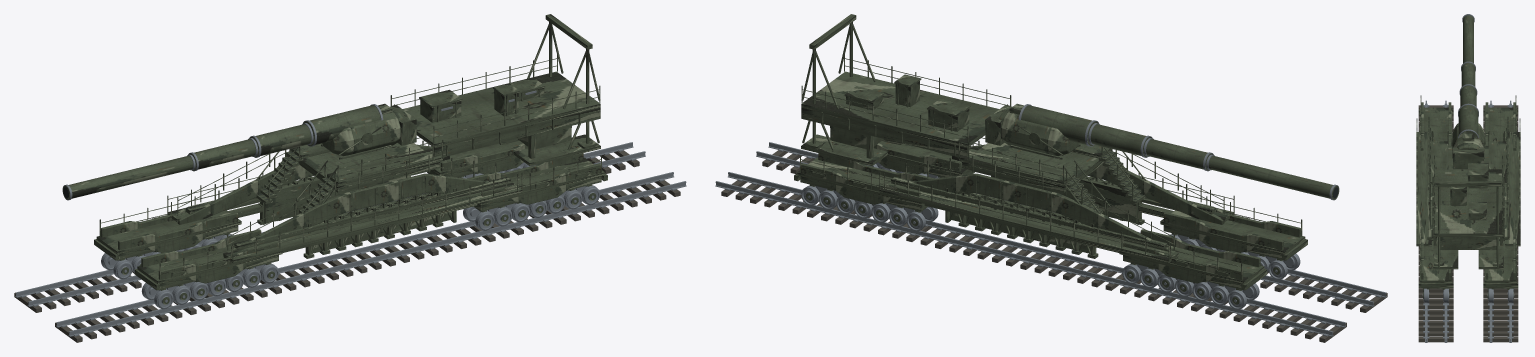
The model's file is runtime-camo-digital.glb.
The picture shows the model from 3 angles, left to right: view 1: azimuth 30°, elevation 25°; view 2: azimuth 150°, elevation 25°; view 3: azimuth 270°, elevation 25°; orthographic projection. The views are drawn at different scales.
Visible parts, largest first — view 1: main-outer-frame-paint-batch, walkways-deck-batch, display-rails-steel-batch, closed-cylinder-shell-paint-batch, display-rails-sleeper-batch, rear-display-deck-deck-batch, walkways-trim-batch, rear-display-deck-trim-batch, rear-display-deck-paint-batch, main-outer-frame-trim-batch, surface-decoration-trim-batch, surface-decoration-paint-batch (+1 smaller); view 2: main-outer-frame-paint-batch, walkways-deck-batch, display-rails-steel-batch, closed-cylinder-shell-paint-batch, display-rails-sleeper-batch, rear-display-deck-deck-batch, walkways-trim-batch, rear-display-deck-trim-batch, rear-display-deck-paint-batch, main-outer-frame-trim-batch, surface-decoration-trim-batch, surface-decoration-paint-batch (+1 smaller); view 3: walkways-deck-batch, rear-display-deck-deck-batch, display-rails-sleeper-batch, closed-cylinder-shell-paint-batch, main-outer-frame-paint-batch, rear-display-deck-trim-batch, walkways-trim-batch, surface-decoration-trim-batch, rear-display-deck-paint-batch, display-rails-steel-batch, closed-cylinder-shell-steel-batch, closed-cylinder-shell-trim-batch (+1 smaller).
Boxes of the visible parts, x1,y1,x2,y2 form: main-outer-frame-paint-batch: [100, 143, 601, 290]; walkways-deck-batch: [96, 140, 604, 284]; display-rails-steel-batch: [15, 142, 686, 336]; closed-cylinder-shell-paint-batch: [62, 105, 416, 199]; display-rails-sleeper-batch: [14, 150, 680, 342]; rear-display-deck-deck-batch: [402, 71, 600, 165]; walkways-trim-batch: [99, 104, 601, 280]; rear-display-deck-trim-batch: [390, 22, 600, 149]; rear-display-deck-paint-batch: [420, 14, 600, 158]; main-outer-frame-trim-batch: [119, 172, 592, 290]; surface-decoration-trim-batch: [94, 87, 607, 290]; surface-decoration-paint-batch: [121, 172, 596, 304]; main-outer-frame-paint-batch: [800, 143, 1301, 290]; walkways-deck-batch: [797, 140, 1305, 284]; display-rails-steel-batch: [715, 142, 1386, 336]; closed-cylinder-shell-paint-batch: [985, 105, 1339, 199]; display-rails-sleeper-batch: [721, 150, 1387, 342]; rear-display-deck-deck-batch: [801, 71, 999, 165]; walkways-trim-batch: [800, 104, 1302, 280]; rear-display-deck-trim-batch: [801, 22, 1011, 149]; rear-display-deck-paint-batch: [801, 14, 969, 158]; main-outer-frame-trim-batch: [809, 172, 1282, 290]; surface-decoration-trim-batch: [794, 83, 1307, 290]; surface-decoration-paint-batch: [805, 172, 1279, 304]; walkways-deck-batch: [1416, 107, 1520, 283]; rear-display-deck-deck-batch: [1433, 169, 1503, 269]; display-rails-sleeper-batch: [1418, 105, 1518, 342]; closed-cylinder-shell-paint-batch: [1452, 15, 1484, 169]; main-outer-frame-paint-batch: [1421, 102, 1515, 288]; rear-display-deck-trim-batch: [1434, 155, 1502, 261]; walkways-trim-batch: [1416, 95, 1520, 279]; surface-decoration-trim-batch: [1418, 107, 1518, 287]; rear-display-deck-paint-batch: [1433, 176, 1503, 245]; display-rails-steel-batch: [1423, 100, 1513, 342]; closed-cylinder-shell-steel-batch: [1458, 14, 1478, 138]; closed-cylinder-shell-trim-batch: [1451, 133, 1485, 144].
Size of the model in its own units: 26 by 6.54 by 4.8.
6 materials, 3 textured.
